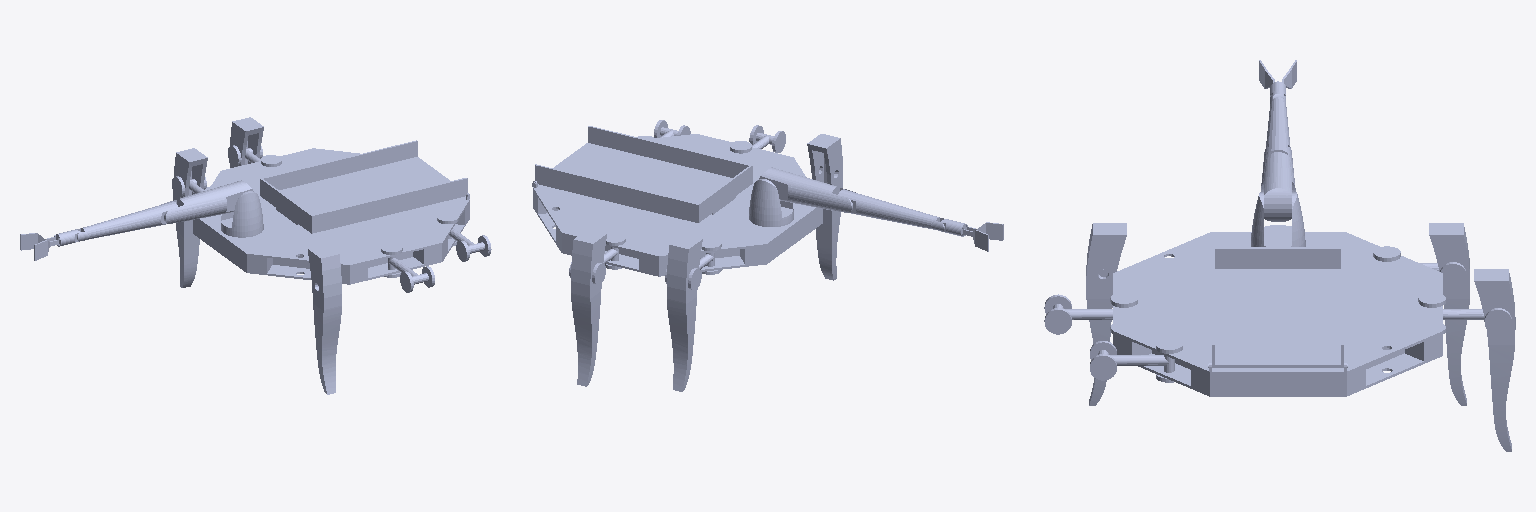
--- What the picture shows (computed from the rendered views, not written in the file) ---
The picture shows the robot from 3 angles, left to right: view 1: azimuth 30°, elevation 25°; view 2: azimuth 150°, elevation 25°; view 3: azimuth 270°, elevation 25°; orthographic projection.
Model krab with 23 links and 22 joints (21 revolute, 1 fixed), rooted at dummy_link, posed every joint at zero.
Visible links, largest first — view 1: base_link, tray, ltl, rtl, m1, mb, m2, lccl, rcl, lbcl, rccl; view 2: base_link, tray, rtl, rcl, ltl, m1, mb, m2, lccl, rtcl, rccl; view 3: base_link, tray, rcl, ltl, rtl, m1, lbcl, lccl, mb, rccl, m2, rtcl.
Link boxes in pixels (left/top/right/bottom): base_link: left=193, top=148, right=469, bottom=284; tray: left=260, top=140, right=469, bottom=233; ltl: left=308, top=244, right=341, bottom=394; rtl: left=173, top=148, right=207, bottom=287; m1: left=161, top=180, right=253, bottom=223; mb: left=221, top=182, right=263, bottom=237; m2: left=85, top=201, right=177, bottom=239; lccl: left=381, top=243, right=434, bottom=292; rcl: left=229, top=117, right=263, bottom=167; lbcl: left=437, top=212, right=491, bottom=261; rccl: left=228, top=145, right=281, bottom=166; base_link: left=532, top=134, right=822, bottom=276; tray: left=533, top=126, right=752, bottom=222; rtl: left=667, top=234, right=702, bottom=391; rcl: left=571, top=229, right=606, bottom=386; ltl: left=807, top=134, right=842, bottom=280; m1: left=759, top=167, right=855, bottom=212; mb: left=749, top=169, right=793, bottom=226; m2: left=838, top=189, right=936, bottom=228; lccl: left=730, top=125, right=785, bottom=153; rtcl: left=665, top=239, right=721, bottom=290; rccl: left=569, top=233, right=625, bottom=284; base_link: left=1113, top=232, right=1442, bottom=396; tray: left=1208, top=247, right=1347, bottom=367; rcl: left=1474, top=269, right=1515, bottom=451; ltl: left=1086, top=223, right=1126, bottom=405; rtl: left=1429, top=223, right=1469, bottom=405; m1: left=1261, top=147, right=1295, bottom=221; lbcl: left=1090, top=338, right=1182, bottom=382; lccl: left=1044, top=292, right=1137, bottom=334; mb: left=1251, top=192, right=1305, bottom=246; rccl: left=1418, top=292, right=1511, bottom=334; m2: left=1266, top=99, right=1290, bottom=154; rtcl: left=1373, top=246, right=1466, bottom=288.
Bounding box of the posed robot: 2.83 × 2.18 × 1.05 m (x, y, z).
Meshes: 22 distinct files referenced, 17 mesh visuals loaded (17 binary STL); not drawn: 5 (reference not matched to a file when rendering).

URDF robot description (krab):
<?xml version="1.0" encoding="utf-8"?>
<!-- This URDF was automatically created by SolidWorks to URDF Exporter! Originally created by Stephen Brawner ([email redacted]) 
     Commit Version: 1.6.0-1-g15f4949  Build Version: 1.6.7594.29634
     For more information, please see http://wiki.ros.org/sw_urdf_exporter -->
<robot
  name="krab">
  <link
    name="dummy_link">
  </link>
  <joint
    name="dummy_joint"
    type="fixed">
    <parent
      link="dummy_link" />
    <child
      link="base_link" />
  </joint>
  <link
    name="base_link">
    <inertial>
      <origin
        xyz="-0.00339625037775504 -4.56196186146274E-17 0.686017296687182"
        rpy="0 0 0" />
      <mass
        value="215.11718874645" />
      <inertia
        ixx="27.9655692941818"
        ixy="5.41977429416126E-15"
        ixz="0.0203842379970154"
        iyy="32.8468285655821"
        iyz="-2.51574877929879E-16"
        izz="60.2004073851413" />
    </inertial>
    <visual>
      <origin
        xyz="0 0 0"
        rpy="0 0 0" />
      <geometry>
        <mesh
          filename="package://krab/meshes/base_link.STL" />
      </geometry>
      <material
        name="">
        <color
          rgba="0.792156862745098 0.819607843137255 0.933333333333333 1" />
      </material>
    </visual>
    <collision>
      <origin
        xyz="0 0 0"
        rpy="0 0 0" />
      <geometry>
        <mesh
          filename="package://krab/meshes/base_link.STL" />
      </geometry>
    </collision>
  </link>
  <link
    name="ltcl">
    <inertial>
      <origin
        xyz="-1.67599378819716E-10 -1.67599255450665E-10 0.1524"
        rpy="0 0 0" />
      <mass
        value="2.07482643917772" />
      <inertia
        ixx="0.0438326042874702"
        ixy="-7.3686542820157E-09"
        ixz="-1.29073372955264E-10"
        iyy="0.0438325958200192"
        iyz="1.29073374169909E-10"
        izz="0.00760787465936534" />
    </inertial>
    <visual>
      <origin
        xyz="0 0 0"
        rpy="0 0 0" />
      <geometry>
        <mesh
          filename="package://krab/meshes/ltcl.STL" />
      </geometry>
      <material
        name="">
        <color
          rgba="0.792156862745098 0.819607843137255 0.933333333333333 1" />
      </material>
    </visual>
    <collision>
      <origin
        xyz="0 0 0"
        rpy="0 0 0" />
      <geometry>
        <mesh
          filename="package://krab/meshes/ltcl.STL" />
      </geometry>
    </collision>
  </link>
  <joint
    name="ltclj"
    type="revolute">
    <origin
      xyz="-0.50519 -0.50289 0.6858"
      rpy="1.5708 0 0" />
    <parent
      link="base_link" />
    <child
      link="ltcl" />
    <axis
      xyz="0 1 0" />
    <limit
      lower="-0.785"
      upper="0"
      effort="10"
      velocity="10" />
  </joint>
  <link
    name="ltl">
    <inertial>
      <origin
        xyz="-8.0440239191848E-07 -0.15845082748447 0.0104249698245448"
        rpy="0 0 0" />
      <mass
        value="7.89440861159368" />
      <inertia
        ixx="0.424937432792702"
        ixy="-4.44327828073804E-07"
        ixz="2.62637361762703E-09"
        iyy="0.0225577990689847"
        iyz="0.0108132079799164"
        izz="0.424665675022903" />
    </inertial>
    <visual>
      <origin
        xyz="0 0 0"
        rpy="0 0 0" />
      <geometry>
        <mesh
          filename="package://krab/meshes/ltl.STL" />
      </geometry>
      <surface>
        <friction>
          <ode>
            <mu>100000.0</mu>
            <mu2>100000.0</mu2>
          </ode>
        </friction>
      </surface>
      <material
        name="">
        <color
          rgba="0.792156862745098 0.819607843137255 0.933333333333333 1" />
      </material>
    </visual>
    <collision>
      <origin
        xyz="0 0 0"
        rpy="0 0 0" />
      <geometry>
        <mesh
          filename="package://krab/meshes/ltl.STL" />
      </geometry>
    </collision>
  </link>
  <joint
    name="ltlj"
    type="revolute">
    <origin
      xyz="0 0 0.3048"
      rpy="0 0 0" />
    <parent
      link="ltcl" />
    <child
      link="ltl" />
    <axis
      xyz="1 0 0" />
    <limit
      lower="-0.785"
      upper="0"
      effort="10"
      velocity="10" />
  </joint>
  <link
    name="lccl">
    <inertial>
      <origin
        xyz="-1.67586435588126E-10 -1.67599247786544E-10 0.1524"
        rpy="0 0 0" />
      <mass
        value="2.07482643917772" />
      <inertia
        ixx="0.0438326042874702"
        ixy="-7.36865428286881E-09"
        ixz="-1.29073368226956E-10"
        iyy="0.0438325958200192"
        iyz="1.2907337100677E-10"
        izz="0.00760787465936533" />
    </inertial>
    <visual>
      <origin
        xyz="0 0 0"
        rpy="0 0 0" />
      <geometry>
        <mesh
          filename="package://krab/meshes/lccl.STL" />
      </geometry>
      <material
        name="">
        <color
          rgba="0.792156862745098 0.819607843137255 0.933333333333333 1" />
      </material>
    </visual>
    <collision>
      <origin
        xyz="0 0 0"
        rpy="0 0 0" />
      <geometry>
        <mesh
          filename="package://krab/meshes/lccl.STL" />
      </geometry>
    </collision>
  </link>
  <joint
    name="lcclj"
    type="revolute">
    <origin
      xyz="-0.0022991 -0.7112 0.6858"
      rpy="1.5708 0 0" />
    <parent
      link="base_link" />
    <child
      link="lccl" />
    <axis
      xyz="0 1 0" />
    <limit
      lower="0"
      upper="0"
      effort="0"
      velocity="0" />
  </joint>
  <link
    name="lcl">
    <inertial>
      <origin
        xyz="-8.04402379058073E-07 -0.15845082748447 0.0104249698245444"
        rpy="0 0 0" />
      <mass
        value="7.89440861159367" />
      <inertia
        ixx="0.424937432792702"
        ixy="-4.44327828054746E-07"
        ixz="2.62637362151809E-09"
        iyy="0.0225577990689847"
        iyz="0.0108132079799165"
        izz="0.424665675022903" />
    </inertial>
    <visual>
      <origin
        xyz="0 0 0"
        rpy="0 0 0" />
      <geometry>
        <mesh
          filename="package://krab/meshes/lcl.STL" />
      </geometry>
      <surface>
        <friction>
          <ode>
            <mu>0</mu>
            <mu2>0</mu2>
          </ode>
        </friction>
      </surface>
      <material
        name="">
        <color
          rgba="0.792156862745098 0.819607843137255 0.933333333333333 1" />
      </material>
    </visual>
    <collision>
      <origin
        xyz="0 0 0"
        rpy="0 0 0" />
      <geometry>
        <mesh
          filename="package://krab/meshes/lcl.STL" />
      </geometry>
    </collision>
  </link>
  <joint
    name="lclj"
    type="revolute">
    <origin
      xyz="0 0 0.3048"
      rpy="0 0 0" />
    <parent
      link="lccl" />
    <child
      link="lcl" />
    <axis
      xyz="1 0 0" />
    <limit
      lower="0"
      upper="0"
      effort="0"
      velocity="0" />
  </joint>
  <link
    name="lbcl">
    <inertial>
      <origin
        xyz="-1.67599267797414E-10 -1.67599233262031E-10 0.1524"
        rpy="0 0 0" />
      <mass
        value="2.07482643917772" />
      <inertia
        ixx="0.0438326042874702"
        ixy="-7.36865428173661E-09"
        ixz="-1.29073373746462E-10"
        iyy="0.0438325958200191"
        iyz="1.29073371870967E-10"
        izz="0.00760787465936533" />
    </inertial>
    <visual>
      <origin
        xyz="0 0 0"
        rpy="0 0 0" />
      <geometry>
        <mesh
          filename="package://krab/meshes/lbcl.STL" />
      </geometry>
      <material
        name="">
        <color
          rgba="0.792156862745098 0.819607843137255 0.933333333333333 1" />
      </material>
    </visual>
    <collision>
      <origin
        xyz="0 0 0"
        rpy="0 0 0" />
      <geometry>
        <mesh
          filename="package://krab/meshes/lbcl.STL" />
      </geometry>
    </collision>
  </link>
  <joint
    name="lbclj"
    type="revolute">
    <origin
      xyz="0.5006 -0.50289 0.6858"
      rpy="1.5708 0 0" />
    <parent
      link="base_link" />
    <child
      link="lbcl" />
    <axis
      xyz="0 1 0" />
    <limit
      lower="-0.785"
      upper="0"
      effort="10"
      velocity="10" />
  </joint>
  <link
    name="lbl">
    <inertial>
      <origin
        xyz="-8.0440239191848E-07 -0.15845082748447 0.0104249698245447"
        rpy="0 0 0" />
      <mass
        value="7.89440861159367" />
      <inertia
        ixx="0.424937432792702"
        ixy="-4.44327828043946E-07"
        ixz="2.62637361863288E-09"
        iyy="0.0225577990689847"
        iyz="0.0108132079799164"
        izz="0.424665675022903" />
    </inertial>
    <visual>
      <origin
        xyz="0 0 0"
        rpy="0 0 0" />
      <geometry>
        <mesh
          filename="package://krab/meshes/lbl.STL" />
      </geometry>
      <surface>
        <friction>
          <ode>
            <mu>100000.0</mu>
            <mu2>100000.0</mu2>
          </ode>
        </friction>
      </surface>
      <material
        name="">
        <color
          rgba="0.792156862745098 0.819607843137255 0.933333333333333 1" />
      </material>
    </visual>
    <collision>
      <origin
        xyz="0 0 0"
        rpy="0 0 0" />
      <geometry>
        <mesh
          filename="package://krab/meshes/lbl.STL" />
      </geometry>
    </collision>
  </link>
  <joint
    name="lblj"
    type="revolute">
    <origin
      xyz="0 0 0.3048"
      rpy="0 0 0" />
    <parent
      link="lbcl" />
    <child
      link="lbl" />
    <axis
      xyz="1 0 0" />
    <limit
      lower="-0.785"
      upper="0"
      effort="10"
      velocity="10" />
  </joint>
  <link
    name="rtcl">
    <inertial>
      <origin
        xyz="-1.67598157574389E-10 -1.67599241101568E-10 0.1524"
        rpy="0 0 0" />
      <mass
        value="2.07482643917772" />
      <inertia
        ixx="0.0438326042874702"
        ixy="-7.36865428165347E-09"
        ixz="-1.29073621672238E-10"
        iyy="0.0438325958200192"
        iyz="1.29073372576138E-10"
        izz="0.00760787465936534" />
    </inertial>
    <visual>
      <origin
        xyz="0 0 0"
        rpy="0 0 0" />
      <geometry>
        <mesh
          filename="package://krab/meshes/rtcl.STL" />
      </geometry>
      <material
        name="">
        <color
          rgba="0.792156862745098 0.819607843137255 0.933333333333333 1" />
      </material>
    </visual>
    <collision>
      <origin
        xyz="0 0 0"
        rpy="0 0 0" />
      <geometry>
        <mesh
          filename="package://krab/meshes/rtcl.STL" />
      </geometry>
    </collision>
  </link>
  <joint
    name="rtclj"
    type="revolute">
    <origin
      xyz="-0.50519 0.50289 0.6858"
      rpy="1.5708 0 3.1416" />
    <parent
      link="base_link" />
    <child
      link="rtcl" />
    <axis
      xyz="0 1 0" />
    <limit
      lower="0"
      upper="0.785"
      effort="10"
      velocity="10" />
  </joint>
  <link
    name="rtl">
    <inertial>
      <origin
        xyz="-8.04402391807457E-07 -0.15845082748447 0.0104249698245447"
        rpy="0 0 0" />
      <mass
        value="7.89440861159368" />
      <inertia
        ixx="0.424937432792703"
        ixy="-4.44327827957761E-07"
        ixz="2.626373620724E-09"
        iyy="0.0225577990689847"
        iyz="0.0108132079799165"
        izz="0.424665675022904" />
    </inertial>
    <visual>
      <origin
        xyz="0 0 0"
        rpy="0 0 0" />
      <geometry>
        <mesh
          filename="package://krab/meshes/rtl.STL" />
      </geometry>
      <surface>
        <friction>
          <ode>
            <mu>100000.0</mu>
            <mu2>100000.0</mu2>
          </ode>
        </friction>
      </surface>
      <material
        name="">
        <color
          rgba="0.792156862745098 0.819607843137255 0.933333333333333 1" />
      </material>
    </visual>
    <collision>
      <origin
        xyz="0 0 0"
        rpy="0 0 0" />
      <geometry>
        <mesh
          filename="package://krab/meshes/rtl.STL" />
      </geometry>
    </collision>
  </link>
  <joint
    name="rtlj"
    type="revolute">
    <origin
      xyz="0 0 0.3048"
      rpy="0 0 0" />
    <parent
      link="rtcl" />
    <child
      link="rtl" />
    <axis
      xyz="1 0 0" />
    <limit
      lower="-0.785"
      upper="0"
      effort="10"
      velocity="10" />
  </joint>
  <link
    name="rccl">
    <inertial>
      <origin
        xyz="-1.67611000756491E-10 -1.67599251833889E-10 0.1524"
        rpy="0 0 0" />
      <mass
        value="2.07482643917772" />
      <inertia
        ixx="0.0438326042874702"
        ixy="-7.36865428177567E-09"
        ixz="-1.29073616102195E-10"
        iyy="0.0438325958200192"
        iyz="1.29073374074576E-10"
        izz="0.00760787465936533" />
    </inertial>
    <visual>
      <origin
        xyz="0 0 0"
        rpy="0 0 0" />
      <geometry>
        <mesh
          filename="package://krab/meshes/rccl.STL" />
      </geometry>
      <material
        name="">
        <color
          rgba="0.792156862745098 0.819607843137255 0.933333333333333 1" />
      </material>
    </visual>
    <collision>
      <origin
        xyz="0 0 0"
        rpy="0 0 0" />
      <geometry>
        <mesh
          filename="package://krab/meshes/rccl.STL" />
      </geometry>
    </collision>
  </link>
  <joint
    name="rcclj"
    type="revolute">
    <origin
      xyz="-0.0022991 0.7112 0.6858"
      rpy="1.5708 0 3.1416" />
    <parent
      link="base_link" />
    <child
      link="rccl" />
    <axis
      xyz="0 1 0" />
    <limit
      lower="0"
      upper="0"
      effort="0"
      velocity="0" />
  </joint>
  <link
    name="rcl">
    <inertial>
      <origin
        xyz="-8.04402402450685E-07 -0.15845082748447 0.0104249698245444"
        rpy="0 0 0" />
      <mass
        value="7.89440861159367" />
      <inertia
        ixx="0.424937432792703"
        ixy="-4.44327827974638E-07"
        ixz="2.62637361956003E-09"
        iyy="0.0225577990689847"
        iyz="0.0108132079799164"
        izz="0.424665675022904" />
    </inertial>
    <visual>
      <origin
        xyz="0 0 0"
        rpy="0 0 0" />
      <geometry>
        <mesh
          filename="package://krab/meshes/rcl.STL" />
      </geometry>
      <surface>
        <friction>
          <ode>
            <mu>0</mu>
            <mu2>0</mu2>
          </ode>
        </friction>
      </surface>
      <material
        name="">
        <color
          rgba="0.792156862745098 0.819607843137255 0.933333333333333 1" />
      </material>
    </visual>
    <collision>
      <origin
        xyz="0 0 0"
        rpy="0 0 0" />
      <geometry>
        <mesh
          filename="package://krab/meshes/rcl.STL" />
      </geometry>
    </collision>
  </link>
  <joint
    name="rclj"
    type="revolute">
    <origin
      xyz="0 0 0.3048"
      rpy="0 0 0" />
    <parent
      link="rccl" />
    <child
      link="rcl" />
    <axis
      xyz="1 0 0" />
    <limit
      lower="0"
      upper="0"
      effort="0"
      velocity="0" />
  </joint>
  <link
    name="rbcl">
    <inertial>
      <origin
        xyz="-1.67598157574389E-10 -1.67599280768097E-10 0.1524"
        rpy="0 0 0" />
      <mass
        value="2.07482643917772" />
      <inertia
        ixx="0.0438326042874702"
        ixy="-7.36865428125987E-09"
        ixz="-1.29073627477376E-10"
        iyy="0.0438325958200192"
        iyz="1.29073373309434E-10"
        izz="0.00760787465936534" />
    </inertial>
    <visual>
      <origin
        xyz="0 0 0"
        rpy="0 0 0" />
      <geometry>
        <mesh
          filename="package://krab/meshes/rbcl.STL" />
      </geometry>
      <material
        name="">
        <color
          rgba="0.792156862745098 0.819607843137255 0.933333333333333 1" />
      </material>
    </visual>
    <collision>
      <origin
        xyz="0 0 0"
        rpy="0 0 0" />
      <geometry>
        <mesh
          filename="package://krab/meshes/rbcl.STL" />
      </geometry>
    </collision>
  </link>
  <joint
    name="rbclj"
    type="revolute">
    <origin
      xyz="0.5006 0.50289 0.6858"
      rpy="1.5708 0 3.1416" />
    <parent
      link="base_link" />
    <child
      link="rbcl" />
    <axis
      xyz="0 1 0" />
    <limit
      lower="0"
      upper="0.785"
      effort="10"
      velocity="10" />
  </joint>
  <link
    name="rbl">
    <inertial>
      <origin
        xyz="-8.04402391807457E-07 -0.15845082748447 0.0104249698245447"
        rpy="0 0 0" />
      <mass
        value="7.89440861159368" />
      <inertia
        ixx="0.424937432792702"
        ixy="-4.44327827897198E-07"
        ixz="2.62637362556797E-09"
        iyy="0.0225577990689847"
        iyz="0.0108132079799164"
        izz="0.424665675022904" />
    </inertial>
    <visual>
      <origin
        xyz="0 0 0"
        rpy="0 0 0" />
      <geometry>
        <mesh
          filename="package://krab/meshes/rbl.STL" />
      </geometry>
      <surface>
        <friction>
          <ode>
            <mu>100000.0</mu>
            <mu2>100000.0</mu2>
          </ode>
        </friction>
      </surface>
      <material
        name="">
        <color
          rgba="0.792156862745098 0.819607843137255 0.933333333333333 1" />
      </material>
    </visual>
    <collision>
      <origin
        xyz="0 0 0"
        rpy="0 0 0" />
      <geometry>
        <mesh
          filename="package://krab/meshes/rbl.STL" />
      </geometry>
    </collision>
  </link>
  <joint
    name="rblj"
    type="revolute">
    <origin
      xyz="0 0 0.3048"
      rpy="0 0 0" />
    <parent
      link="rbcl" />
    <child
      link="rbl" />
    <axis
      xyz="1 0 0" />
    <limit
      lower="-0.785"
      upper="0"
      effort="10"
      velocity="10" />
  </joint>
  <link
    name="tray">
    <inertial>
      <origin
        xyz="-0.560542964848004 0.0170252594193095 1.43910631642182E-19"
        rpy="0 0 0" />
      <mass
        value="0.0716521370062" />
      <inertia
        ixx="0.534198350087369"
        ixy="0.0159927819915048"
        ixz="-2.3292603499858E-16"
        iyy="1.76519371357293"
        iyz="1.04110437764524E-16"
        izz="1.25333402703557" />
    </inertial>
    <visual>
      <origin
        xyz="0 0 0"
        rpy="0 0 0" />
      <geometry>
        <mesh
          filename="package://krab/meshes/tray.STL" />
      </geometry>
      <material
        name="">
        <color
          rgba="0.792156862745098 0.819607843137255 0.933333333333333 1" />
      </material>
    </visual>
    <collision>
      <origin
        xyz="0 0 0"
        rpy="0 0 0" />
      <geometry>
        <mesh
          filename="package://krab/meshes/tray.STL" />
      </geometry>
    </collision>
  </link>
  <joint
    name="taryj"
    type="revolute">
    <origin
      xyz="0.747 0 0.7747"
      rpy="1.5708 0 0" />
    <parent
      link="base_link" />
    <child
      link="tray" />
    <axis
      xyz="0 0 1" />
    <limit
      lower="-1.57"
      upper="0"
      effort="10"
      velocity="10" />
  </joint>
  <link
    name="mb">
    <inertial>
      <origin
        xyz="3.54343671071788E-08 0.0900807436955159 -2.11428771432673E-08"
        rpy="0 0 0" />
      <mass
        value="2.04802636438107" />
      <inertia
        ixx="0.0560591366341696"
        ixy="1.35302168732278E-09"
        ixz="1.85767670274891E-09"
        iyy="0.0434595950399373"
        iyz="2.438446716658E-09"
        izz="0.0421106076263894" />
    </inertial>
    <visual>
      <origin
        xyz="0 0 0"
        rpy="0 0 0" />
      <geometry>
        <mesh
          filename="package://krab/meshes/mb.STL" />
      </geometry>
      <material
        name="">
        <color
          rgba="0.792156862745098 0.819607843137255 0.933333333333333 1" />
      </material>
    </visual>
    <collision>
      <origin
        xyz="0 0 0"
        rpy="0 0 0" />
      <geometry>
        <mesh
          filename="package://krab/meshes/mb.STL" />
      </geometry>
    </collision>
  </link>
  <joint
    name="mbj"
    type="revolute">
    <origin
      xyz="-0.6119 0 0.7493"
      rpy="1.5708 0 0" />
    <parent
      link="base_link" />
    <child
      link="mb" />
    <axis
      xyz="0 1 0" />
    <limit
      lower="-3.14"
      upper="3.14"
      effort="10"
      velocity="0.2" />
  </joint>
  <link
    name="m1">
    <inertial>
      <origin
        xyz="2.06748002606894E-08 0.205843614732779 3.09218627331779E-07"
        rpy="0 0 0" />
      <mass
        value="0.55076251378749" />
      <inertia
        ixx="0.200071421192529"
        ixy="2.41437221246176E-07"
        ixz="-9.64931970271856E-08"
        iyy="0.0259788534405974"
        iyz="-3.09057289293334E-07"
        izz="0.201702619311278" />
    </inertial>
    <visual>
      <origin
        xyz="0 0 0"
        rpy="0 0 0" />
      <geometry>
        <mesh
          filename="package://krab/meshes/m1.STL" />
      </geometry>
      <material
        name="">
        <color
          rgba="0.792156862745098 0.819607843137255 0.933333333333333 1" />
      </material>
    </visual>
    <collision>
      <origin
        xyz="0 0 0"
        rpy="0 0 0" />
      <geometry>
        <mesh
          filename="package://krab/meshes/m1.STL" />
      </geometry>
    </collision>
  </link>
  <joint
    name="m1j"
    type="revolute">
    <origin
      xyz="0 0.2159 0"
      rpy="0 0 1.5708" />
    <parent
      link="mb" />
    <child
      link="m1" />
    <axis
      xyz="0 0 1" />
    <limit
      lower="-3.14"
      upper="0.3"
      effort="10"
      velocity="0.2" />
  </joint>
  <link
    name="m2">
    <inertial>
      <origin
        xyz="1.63324822555211E-08 0.223133644642045 2.83911543513126E-16"
        rpy="0 0 0" />
      <mass
        value="0.24036627766411" />
      <inertia
        ixx="0.131910465962022"
        ixy="5.43529090705958E-10"
        ixz="-1.66714488414978E-17"
        iyy="0.00632522912603467"
        iyz="-2.30662558100569E-17"
        izz="0.132539274942822" />
    </inertial>
    <visual>
      <origin
        xyz="0 0 0"
        rpy="0 0 0" />
      <geometry>
        <mesh
          filename="package://krab/meshes/m2.STL" />
      </geometry>
      <material
        name="">
        <color
          rgba="0.792156862745098 0.819607843137255 0.933333333333333 1" />
      </material>
    </visual>
    <collision>
      <origin
        xyz="0 0 0"
        rpy="0 0 0" />
      <geometry>
        <mesh
          filename="package://krab/meshes/m2.STL" />
      </geometry>
    </collision>
  </link>
  <joint
    name="m2j"
    type="revolute">
    <origin
      xyz="0 0.508 0"
      rpy="0 0 0" />
    <parent
      link="m1" />
    <child
      link="m2" />
    <axis
      xyz="0 0 1" />
    <limit
      lower="-3.14"
      upper="3.14"
      effort="10"
      velocity="0.2" />
  </joint>
  <link
    name="e1">
    <inertial>
      <origin
        xyz="-2.97186943942762E-08 0.0303804793648044 5.88836406840664E-09"
        rpy="0 0 0" />
      <mass
        value="0.105050230907181" />
      <inertia
        ixx="0.000167192700548725"
        ixy="3.82566026085962E-11"
        ixz="7.03116023400053E-11"
        iyy="0.000126061710010838"
        iyz="2.21797592501386E-11"
        izz="0.00011987187608684" />
    </inertial>
    <visual>
      <origin
        xyz="0 0 0"
        rpy="0 0 0" />
      <geometry>
        <mesh
          filename="package://krab/meshes/e1.STL" />
      </geometry>
      <material
        name="">
        <color
          rgba="0.792156862745098 0.819607843137255 0.933333333333333 1" />
      </material>
    </visual>
    <collision>
      <origin
        xyz="0 0 0"
        rpy="0 0 0" />
      <geometry>
        <mesh
          filename="package://krab/meshes/e1.STL" />
      </geometry>
    </collision>
  </link>
  <joint
    name="e1j"
    type="revolute">
    <origin
      xyz="0 0.5588 0"
      rpy="0 0 0" />
    <parent
      link="m2" />
    <child
      link="e1" />
    <axis
      xyz="0 1 0" />
    <limit
      lower="-3.14"
      upper="3.14"
      effort="10"
      velocity="0.2" />
  </joint>
  <link
    name="e2">
    <inertial>
      <origin
        xyz="-4.04062218684054E-08 0.0345606774630649 2.1202244352884E-08"
        rpy="0 0 0" />
      <mass
        value="0.102473732220522" />
      <inertia
        ixx="0.000192386934907388"
        ixy="2.76915677340521E-10"
        ixz="-4.44002231102838E-10"
        iyy="0.000173017402365053"
        iyz="2.57482814004065E-10"
        izz="0.000228202821777971" />
    </inertial>
    <visual>
      <origin
        xyz="0 0 0"
        rpy="0 0 0" />
      <geometry>
        <mesh
          filename="package://krab/meshes/e2.STL" />
      </geometry>
      <material
        name="">
        <color
          rgba="0.792156862745098 0.819607843137255 0.933333333333333 1" />
      </material>
    </visual>
    <collision>
      <origin
        xyz="0 0 0"
        rpy="0 0 0" />
      <geometry>
        <mesh
          filename="package://krab/meshes/e2.STL" />
      </geometry>
    </collision>
  </link>
  <joint
    name="e2j"
    type="revolute">
    <origin
      xyz="0 0.05 0"
      rpy="0 0 0" />
    <parent
      link="e1" />
    <child
      link="e2" />
    <axis
      xyz="0 0 1" />
    <limit
      lower="-3.14"
      upper="3.14"
      effort="10"
      velocity="0.2" />
  </joint>
  <link
    name="e3">
    <inertial>
      <origin
        xyz="0 0.0396922295964119 3.16519031416673E-16"
        rpy="0 0 0" />
      <mass
        value="0.100155177326649" />
      <inertia
        ixx="0.000290462487136994"
        ixy="-2.64629185558129E-21"
        ixz="8.20718264017458E-22"
        iyy="0.000251933128021336"
        iyz="1.63158202449678E-20"
        izz="0.000289598228555534" />
    </inertial>
    <visual>
      <origin
        xyz="0 0 0"
        rpy="0 0 0" />
      <geometry>
        <mesh
          filename="package://krab/meshes/e3.STL" />
      </geometry>
      <material
        name="">
        <color
          rgba="0.792156862745098 0.819607843137255 0.933333333333333 1" />
      </material>
    </visual>
    <collision>
      <origin
        xyz="0 0 0"
        rpy="0 0 0" />
      <geometry>
        <mesh
          filename="package://krab/meshes/e3.STL" />
      </geometry>
    </collision>
  </link>
  <joint
    name="e3j"
    type="revolute">
    <origin
      xyz="0 0.0643 0"
      rpy="0 0 0" />
    <parent
      link="e2" />
    <child
      link="e3" />
    <axis
      xyz="0 1 0" />
    <limit
      lower="-3.14"
      upper="3.14"
      effort="10"
      velocity="0.05" />
  </joint>
  <link
    name="g1">
    <inertial>
      <origin
        xyz="2.22044604925031E-16 0.121794872076023 -0.0377722602850282"
        rpy="0 0 0" />
      <mass
        value="0.057894552492597" />
      <inertia
        ixx="0.000378469812496569"
        ixy="1.33794441082817E-19"
        ixz="-2.00483448385945E-20"
        iyy="0.000146955403903584"
        iyz="0.000125287050901637"
        izz="0.000420416409037188" />
    </inertial>
    <visual>
      <origin
        xyz="0 0 0"
        rpy="0 0 0" />
      <geometry>
        <mesh
          filename="package://krab/meshes/g1.STL" />
      </geometry>
      <material
        name="">
        <color
          rgba="0.792156862745098 0.819607843137255 0.933333333333333 1" />
      </material>
    </visual>
    <collision>
      <origin
        xyz="0 0 0"
        rpy="0 0 0" />
      <geometry>
        <mesh
          filename="package://krab/meshes/g1.STL" />
      </geometry>
    </collision>
  </link>
  <joint
    name="g1j"
    type="revolute">
    <origin
      xyz="0 0.08255 -0.02159"
      rpy="0 0 0" />
    <parent
      link="e3" />
    <child
      link="g1" />
    <axis
      xyz="1 0 0" />
    <limit
      lower="-0.5"
      upper="0.5"
      effort="10"
      velocity="0.08" />
  </joint>
  <link
    name="g2">
    <inertial>
      <origin
        xyz="-1.11022302462516E-16 0.121794872076023 -0.0377722602850282"
        rpy="0 0 0" />
      <mass
        value="0.057894552492598" />
      <inertia
        ixx="0.000378469812496571"
        ixy="2.76033752289346E-20"
        ixz="-5.03100274705486E-20"
        iyy="0.000146955403903584"
        iyz="0.000125287050901638"
        izz="0.00042041640903719" />
    </inertial>
    <visual>
      <origin
        xyz="0 0 0"
        rpy="0 0 0" />
      <geometry>
        <mesh
          filename="package://krab/meshes/g2.STL" />
      </geometry>
      <material
        name="">
        <color
          rgba="0.792156862745098 0.819607843137255 0.933333333333333 1" />
      </material>
    </visual>
    <collision>
      <origin
        xyz="0 0 0"
        rpy="0 0 0" />
      <geometry>
        <mesh
          filename="package://krab/meshes/g2.STL" />
      </geometry>
    </collision>
  </link>
  <joint
    name="g2j"
    type="revolute">
    <origin
      xyz="0 0.08255 0.02159"
      rpy="3.1416 0 3.1416" />
    <parent
      link="e3" />
    <child
      link="g2" />
    <axis
      xyz="1 0 0" />
    <limit
      lower="-0.5"
      upper="0.5"
      effort="10"
      velocity="0.08" />
  </joint>

  <transmission name="transmission1">
    <type>transmission_interface/SimpleTransmission</type>
    <joint name="ltclj">
      <hardwareInterface>hardware_interface/EffortJointInterface</hardwareInterface>
    </joint>
    <actuator name="motor1">
      <mechanicalReduction>10</mechanicalReduction>
    </actuator>
  </transmission>

  <transmission name="transmission2">
    <type>transmission_interface/SimpleTransmission</type>
    <joint name="lcclj">
      <hardwareInterface>hardware_interface/EffortJointInterface</hardwareInterface>
    </joint>
    <actuator name="motor2">
      <mechanicalReduction>10</mechanicalReduction>
    </actuator>
  </transmission>

  <transmission name="transmission3">
    <type>transmission_interface/SimpleTransmission</type>
    <joint name="lbclj">
      <hardwareInterface>hardware_interface/EffortJointInterface</hardwareInterface>
    </joint>
    <actuator name="motor3">
      <mechanicalReduction>10</mechanicalReduction>
    </actuator>
  </transmission>

  <transmission name="transmission4">
    <type>transmission_interface/SimpleTransmission</type>
    <joint name="rtclj">
      <hardwareInterface>hardware_interface/EffortJointInterface</hardwareInterface>
    </joint>
    <actuator name="motor4">
      <mechanicalReduction>10</mechanicalReduction>
    </actuator>
  </transmission>

  <transmission name="transmission5">
    <type>transmission_interface/SimpleTransmission</type>
    <joint name="rcclj">
      <hardwareInterface>hardware_interface/EffortJointInterface</hardwareInterface>
    </joint>
    <actuator name="motor5">
      <mechanicalReduction>10</mechanicalReduction>
    </actuator>
  </transmission>

  <transmission name="transmission6">
    <type>transmission_interface/SimpleTransmission</type>
    <joint name="rbclj">
      <hardwareInterface>hardware_interface/EffortJointInterface</hardwareInterface>
    </joint>
    <actuator name="motor6">
      <mechanicalReduction>10</mechanicalReduction>
    </actuator>
  </transmission>

  <transmission name="transmission7">
    <type>transmission_interface/SimpleTransmission</type>
    <joint name="ltlj">
      <hardwareInterface>hardware_interface/EffortJointInterface</hardwareInterface>
    </joint>
    <actuator name="motor7">
      <mechanicalReduction>10</mechanicalReduction>
    </actuator>
  </transmission>

  <transmission name="transmission8">
    <type>transmission_interface/SimpleTransmission</type>
    <joint name="lclj">
      <hardwareInterface>hardware_interface/EffortJointInterface</hardwareInterface>
    </joint>
    <actuator name="motor8">
      <mechanicalReduction>10</mechanicalReduction>
    </actuator>
  </transmission>

  <transmission name="transmission9">
    <type>transmission_interface/SimpleTransmission</type>
    <joint name="lblj">
      <hardwareInterface>hardware_interface/EffortJointInterface</hardwareInterface>
    </joint>
    <actuator name="motor9">
      <mechanicalReduction>10</mechanicalReduction>
    </actuator>
  </transmission>

  <transmission name="transmission10">
    <type>transmission_interface/SimpleTransmission</type>
    <joint name="rtlj">
      <hardwareInterface>hardware_interface/EffortJointInterface</hardwareInterface>
    </joint>
    <actuator name="motor10">
      <mechanicalReduction>10</mechanicalReduction>
    </actuator>
  </transmission>

  <transmission name="transmission11">
    <type>transmission_interface/SimpleTransmission</type>
    <joint name="rclj">
      <hardwareInterface>hardware_interface/EffortJointInterface</hardwareInterface>
    </joint>
    <actuator name="motor11">
      <mechanicalReduction>10</mechanicalReduction>
    </actuator>
  </transmission>

  <transmission name="transmission12">
    <type>transmission_interface/SimpleTransmission</type>
    <joint name="rblj">
      <hardwareInterface>hardware_interface/EffortJointInterface</hardwareInterface>
    </joint>
    <actuator name="motor12">
      <mechanicalReduction>10</mechanicalReduction>
    </actuator>
  </transmission>

  <transmission name="transmission13">
    <type>transmission_interface/SimpleTransmission</type>
    <joint name="mbj">
      <hardwareInterface>hardware_interface/EffortJointInterface</hardwareInterface>
    </joint>
    <actuator name="motor13">
      <mechanicalReduction>10</mechanicalReduction>
    </actuator>
  </transmission>

  <transmission name="transmission14">
    <type>transmission_interface/SimpleTransmission</type>
    <joint name="m1j">
      <hardwareInterface>hardware_interface/EffortJointInterface</hardwareInterface>
    </joint>
    <actuator name="motor14">
      <mechanicalReduction>10</mechanicalReduction>
    </actuator>
  </transmission>

  <transmission name="transmission15">
    <type>transmission_interface/SimpleTransmission</type>
    <joint name="m2j">
      <hardwareInterface>hardware_interface/EffortJointInterface</hardwareInterface>
    </joint>
    <actuator name="motor15">
      <mechanicalReduction>10</mechanicalReduction>
    </actuator>
  </transmission>

  <transmission name="transmission16">
    <type>transmission_interface/SimpleTransmission</type>
    <joint name="e1j">
      <hardwareInterface>hardware_interface/EffortJointInterface</hardwareInterface>
    </joint>
    <actuator name="motor16">
      <mechanicalReduction>10</mechanicalReduction>
    </actuator>
  </transmission>

  <transmission name="transmission17">
    <type>transmission_interface/SimpleTransmission</type>
    <joint name="e2j">
      <hardwareInterface>hardware_interface/EffortJointInterface</hardwareInterface>
    </joint>
    <actuator name="motor17">
      <mechanicalReduction>10</mechanicalReduction>
    </actuator>
  </transmission>

  <transmission name="transmission18">
    <type>transmission_interface/SimpleTransmission</type>
    <joint name="e3j">
      <hardwareInterface>hardware_interface/EffortJointInterface</hardwareInterface>
    </joint>
    <actuator name="motor18">
      <mechanicalReduction>10</mechanicalReduction>
    </actuator>
  </transmission>

  <transmission name="transmission19">
    <type>transmission_interface/SimpleTransmission</type>
    <joint name="g1j">
      <hardwareInterface>hardware_interface/EffortJointInterface</hardwareInterface>
    </joint>
    <actuator name="motor19">
      <mechanicalReduction>10</mechanicalReduction>
    </actuator>
  </transmission>

  <transmission name="transmission20">
    <type>transmission_interface/SimpleTransmission</type>
    <joint name="g2j">
      <hardwareInterface>hardware_interface/EffortJointInterface</hardwareInterface>
    </joint>
    <actuator name="motor20">
      <mechanicalReduction>10</mechanicalReduction>
    </actuator>
  </transmission>

  <transmission name="transmission21">
    <type>transmission_interface/SimpleTransmission</type>
    <joint name="taryj">
      <hardwareInterface>hardware_interface/EffortJointInterface</hardwareInterface>
    </joint>
    <actuator name="motor21">
      <mechanicalReduction>10</mechanicalReduction>
    </actuator>
  </transmission>

</robot>
